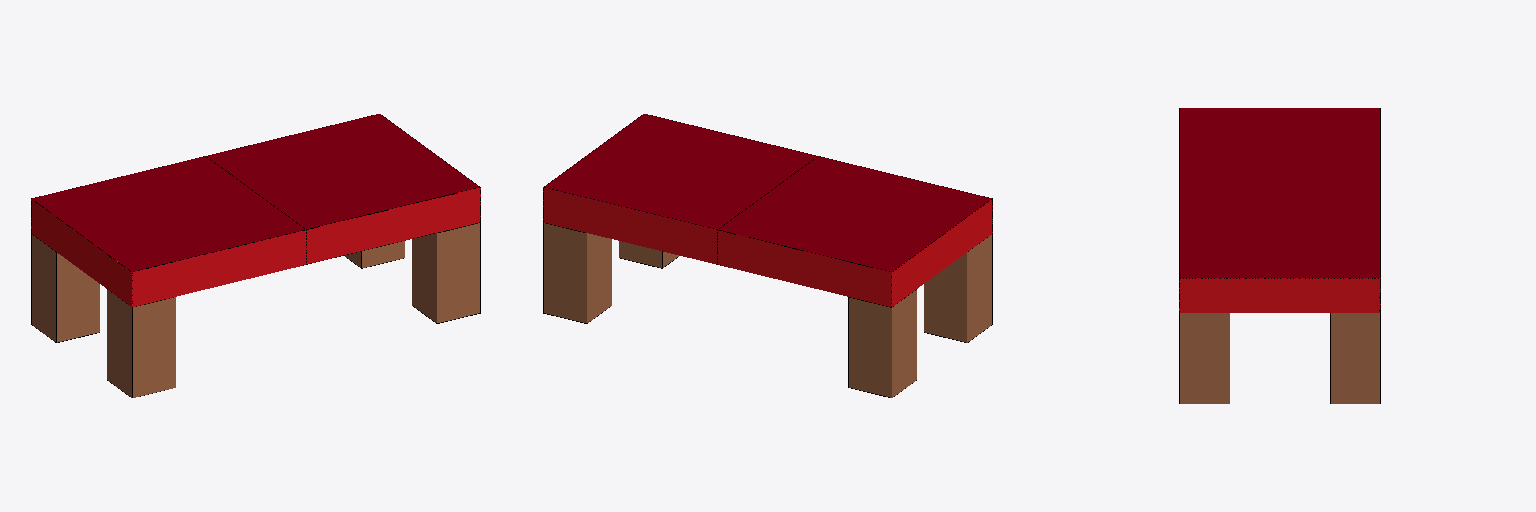
The picture shows the model from 3 angles: view 1: azimuth 30°, elevation 25°; view 2: azimuth 150°, elevation 25°; view 3: azimuth 270°, elevation 25°; orthographic projection.
Parts seen in each view (by area): view 1: Cube; view 2: Cube; view 3: Cube.
Part boxes in pixels (bbox=[...]): Cube: bbox=[31, 114, 480, 397]; Cube: bbox=[543, 114, 992, 397]; Cube: bbox=[1179, 108, 1380, 403].
Bounding box in the file's own units: 4 × 1.39 × 2.
Materials: 1 (1 with a texture image).